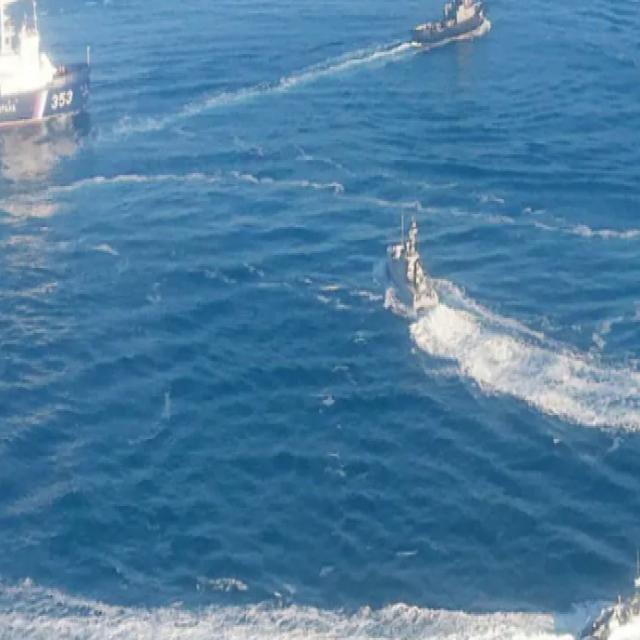navalvessels: (0, 0, 100, 140), (372, 212, 438, 328), (564, 549, 640, 640), (410, 0, 493, 58)
